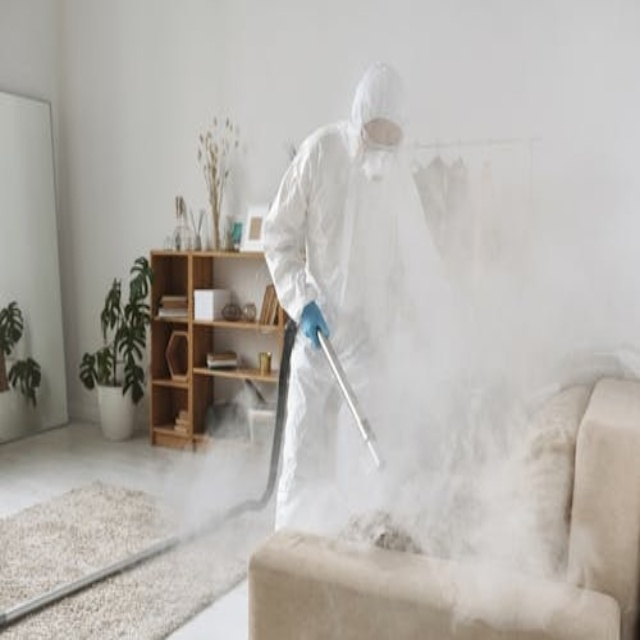Guantes: (299, 301, 330, 350)
Mascara: (356, 142, 401, 190)
